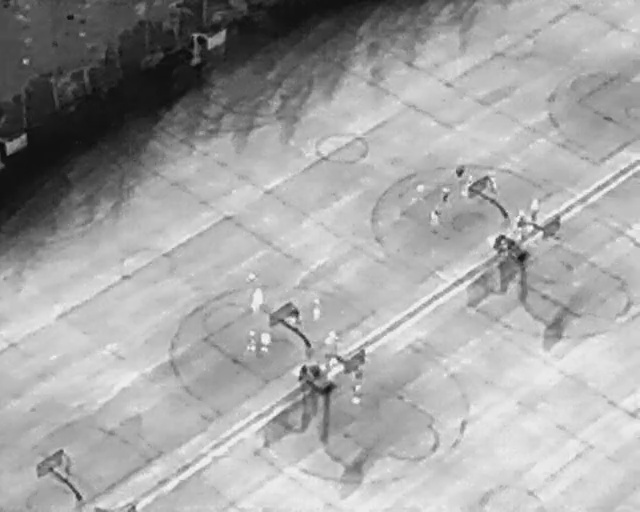Person: (251, 285, 263, 311), (351, 381, 363, 405), (455, 162, 467, 186), (247, 327, 256, 352), (312, 296, 321, 319), (441, 185, 450, 208), (260, 332, 270, 352), (532, 197, 541, 219), (431, 205, 440, 225)
